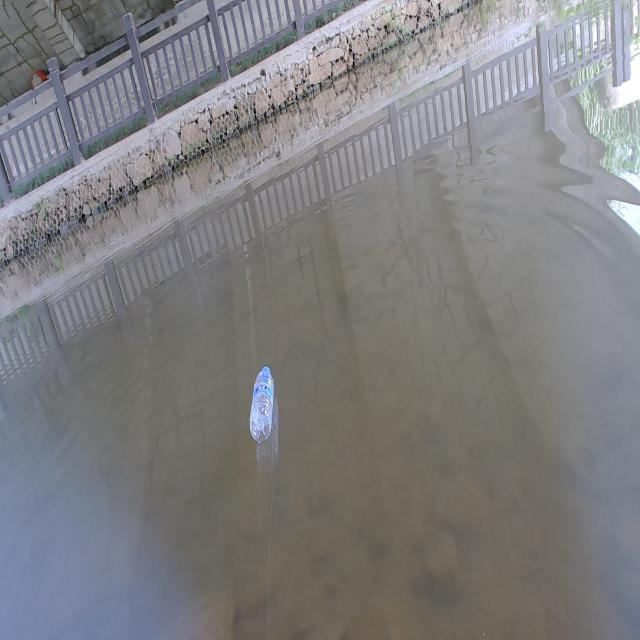Bottle: (247, 361, 275, 445)
